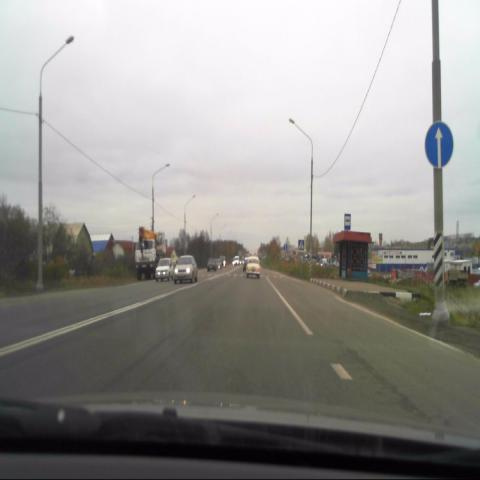4_1_1: (425, 119, 454, 172)
